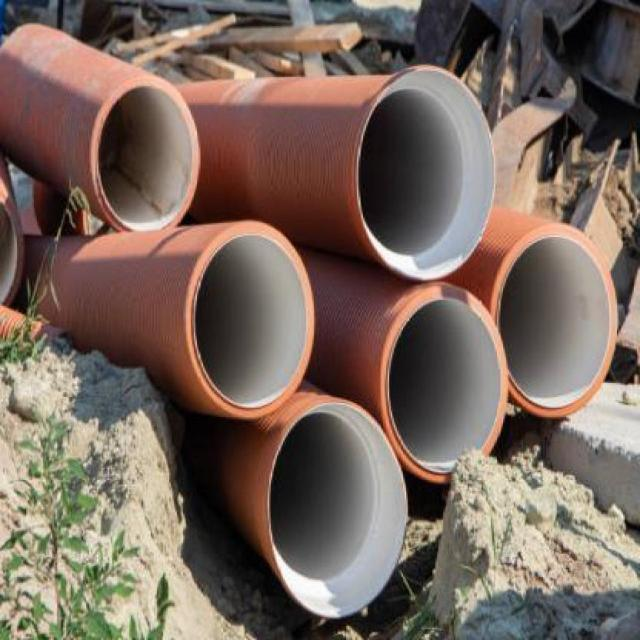pipe: (268, 403, 408, 619), (356, 67, 496, 280), (496, 232, 612, 411), (192, 233, 308, 411), (386, 298, 502, 473), (96, 83, 195, 231)
